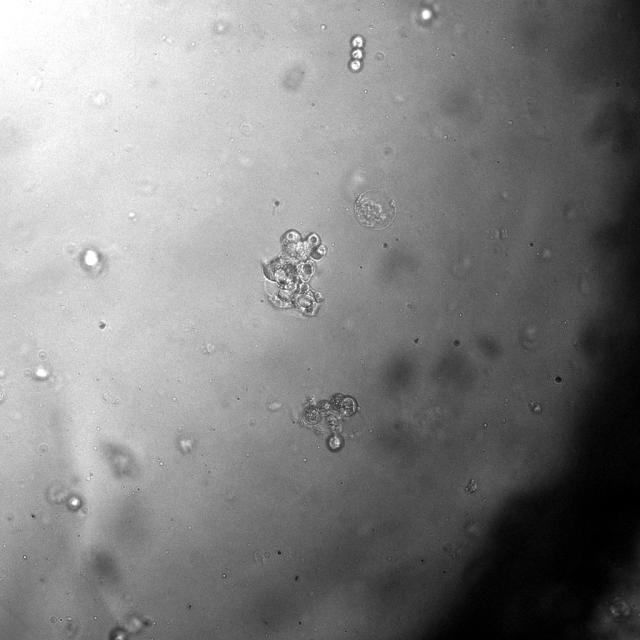organoid: (262, 229, 326, 316), (299, 393, 359, 452), (354, 189, 396, 229), (108, 614, 152, 639), (78, 247, 105, 274), (412, 3, 439, 28), (348, 34, 365, 72), (66, 493, 82, 511)
